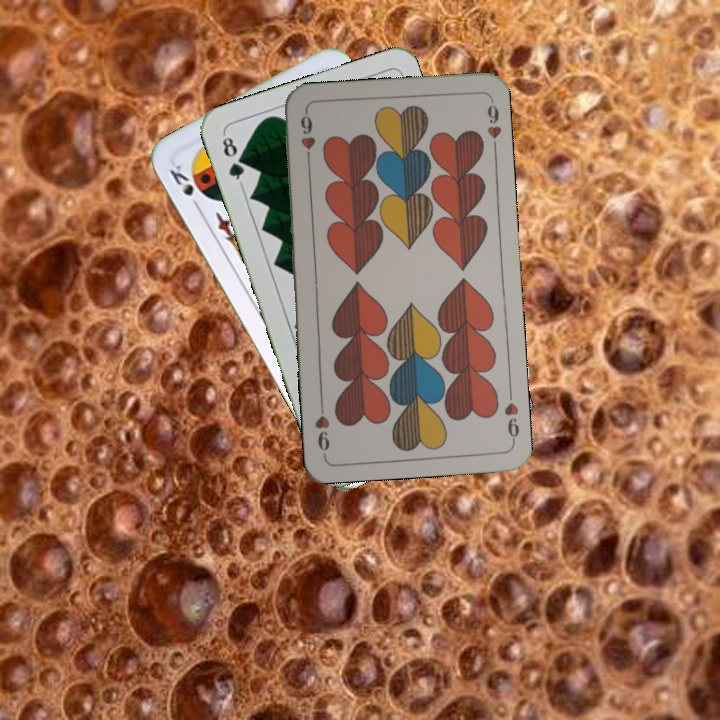G8: (218, 130, 247, 187)
H9: (296, 108, 318, 167), (500, 386, 522, 445)
SK: (165, 160, 204, 214)
